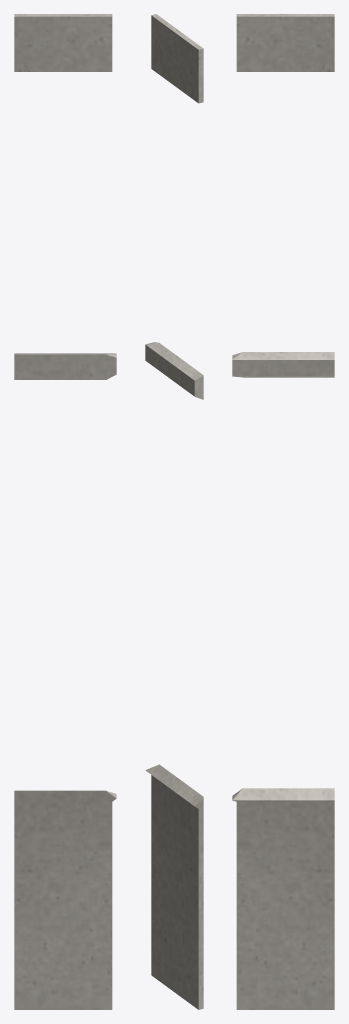
File: w_corner.glb
The picture shows the model from 3 angles, left to right: view 1: azimuth 90°, elevation 25°; view 2: azimuth 210°, elevation 25°; view 3: azimuth 270°, elevation 25°; orthographic projection. The views are drawn at different scales.
Visible parts, largest first — view 1: w_corner_concrete; view 2: w_corner_concrete; view 3: w_corner_concrete.
Part boxes in pixels (<box>): w_corner_concrete: <box>14,14,116,1009</box>; w_corner_concrete: <box>145,14,203,1009</box>; w_corner_concrete: <box>232,14,334,1009</box>.
Bounding box in the file's own units: 0.035 × 3.58 × 0.335.
1 material, 1 textured.
